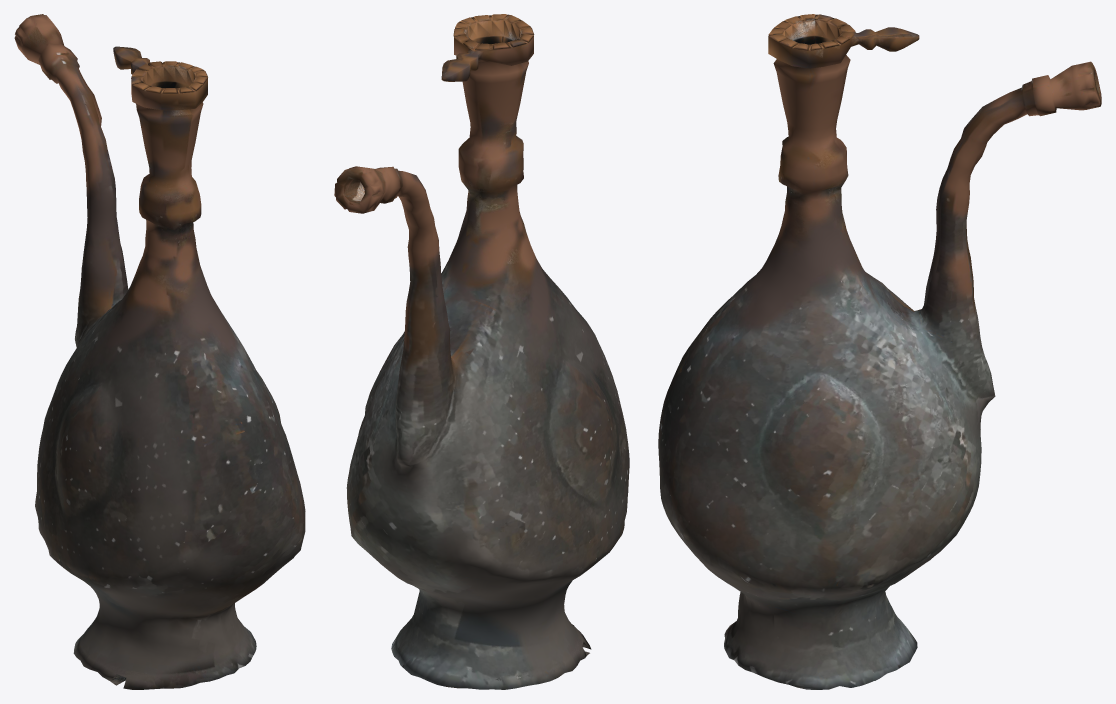
Rendered from suvdon2.gltf.
3 renders of one model, left to right at view 1: azimuth 30°, elevation 25°; view 2: azimuth 150°, elevation 25°; view 3: azimuth 270°, elevation 25°, orthographic. The views are drawn at different scales.
Parts seen in each view (by area): view 1: Suvdon2Final; view 2: Suvdon2Final; view 3: Suvdon2Final.
Part boxes in pixels (x1,y1,x2,y2): Suvdon2Final: (14, 14, 305, 689); Suvdon2Final: (334, 14, 629, 689); Suvdon2Final: (658, 14, 1101, 689).
Bounding box in the file's own units: 5.58 × 14.46 × 9.37.
1 material, 1 textured.
